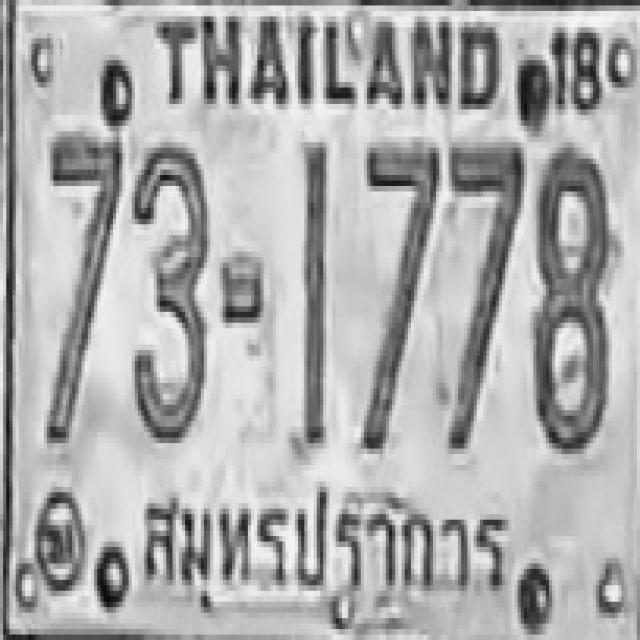1: (298, 139, 326, 446)
3: (130, 137, 209, 443)
7: (44, 128, 122, 446), (361, 136, 439, 448), (444, 139, 522, 446)
8: (529, 142, 613, 449)
SamutPrakan: (133, 476, 512, 597)
